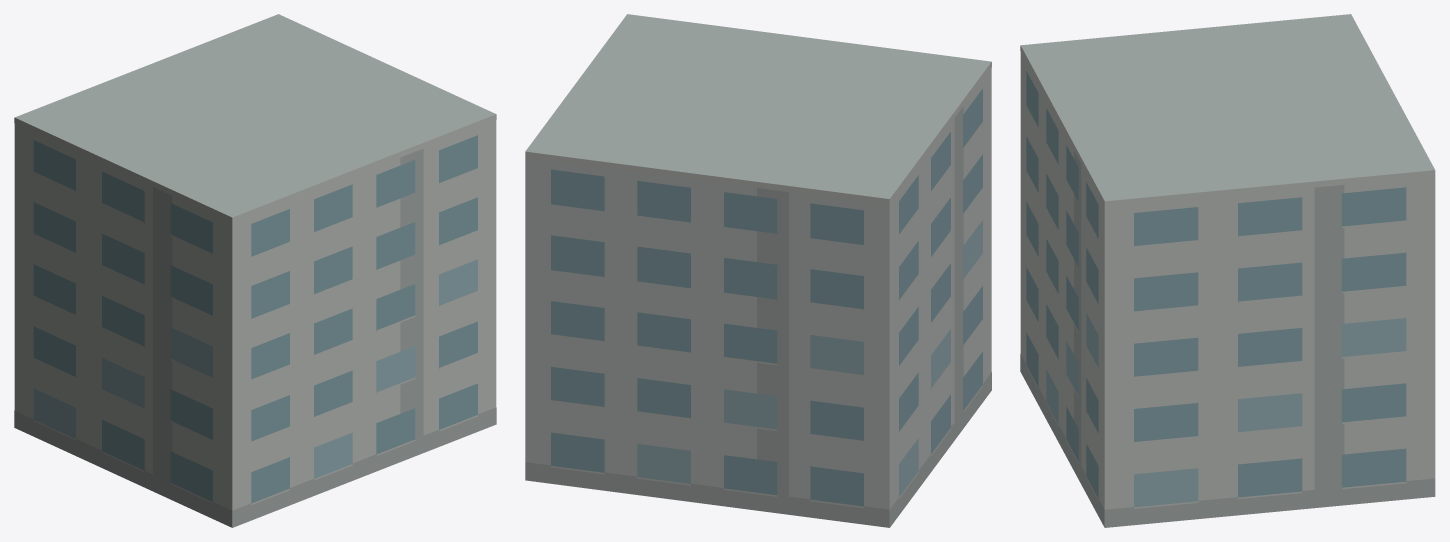
The model's file is survey-upis-32798807.glb.
3 renders of one model, left to right at view 1: azimuth 30°, elevation 25°; view 2: azimuth 150°, elevation 25°; view 3: azimuth 270°, elevation 25°, orthographic. The views are drawn at different scales.
Parts seen in each view (by area): view 1: survey-upis-32798807.tmp; view 2: survey-upis-32798807.tmp; view 3: survey-upis-32798807.tmp.
Part boxes in pixels (x1,y1,x2,y2): survey-upis-32798807.tmp: (14,14,496,527); survey-upis-32798807.tmp: (525,14,991,527); survey-upis-32798807.tmp: (1020,14,1435,527).
Size of the model in its own units: 16 by 13 by 14.97.
